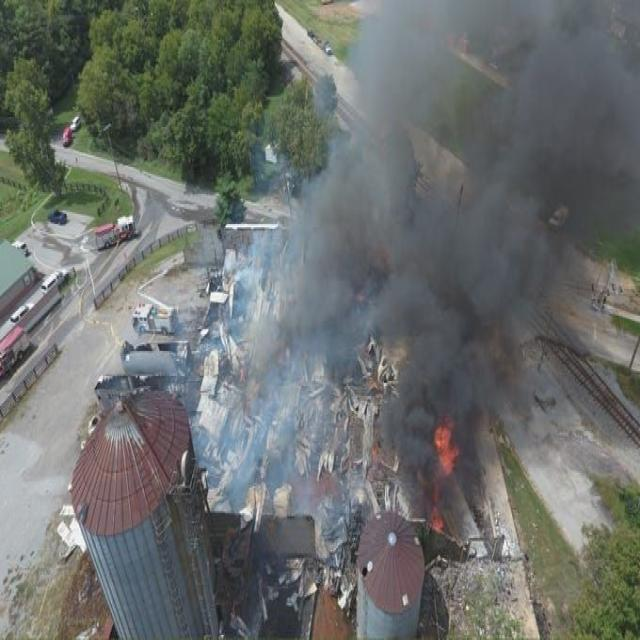Fire: (428, 406, 456, 526)
Smoke: (237, 34, 611, 450)
